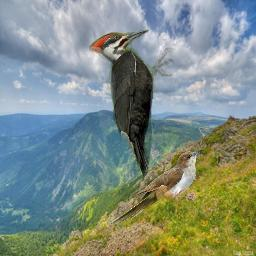Cuckoo: (108, 148, 204, 224)
Woodpecker: (89, 29, 174, 179)
